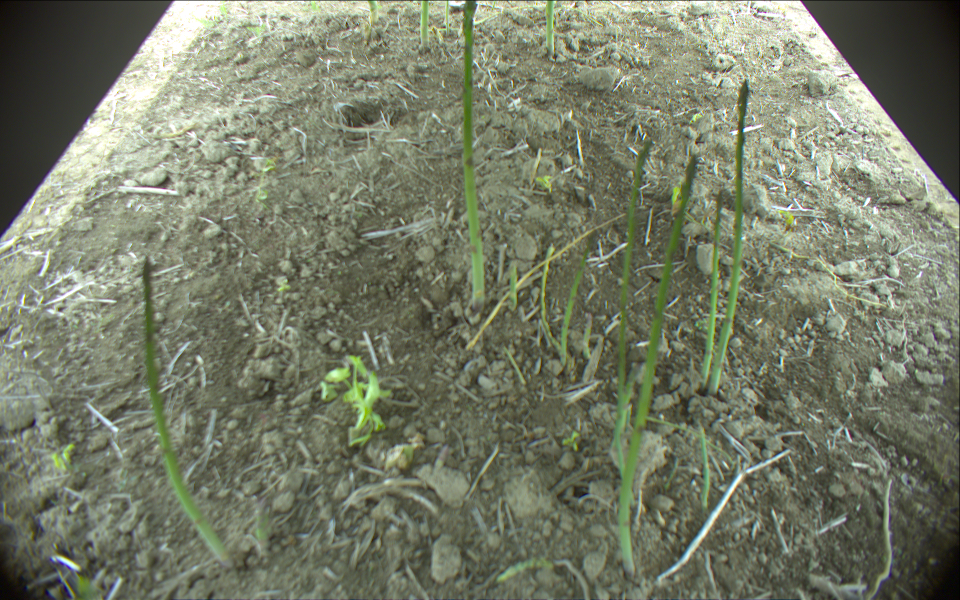aspa: (614, 151, 697, 580), (143, 256, 229, 563), (708, 77, 753, 398), (613, 137, 657, 438), (458, 1, 486, 311), (699, 185, 724, 385), (558, 234, 597, 361), (473, 3, 604, 25), (541, 242, 562, 349), (697, 424, 712, 509), (254, 500, 270, 557), (542, 1, 558, 54), (580, 311, 594, 359), (419, 1, 431, 43), (511, 260, 519, 309), (442, 1, 451, 35), (368, 1, 378, 27)
